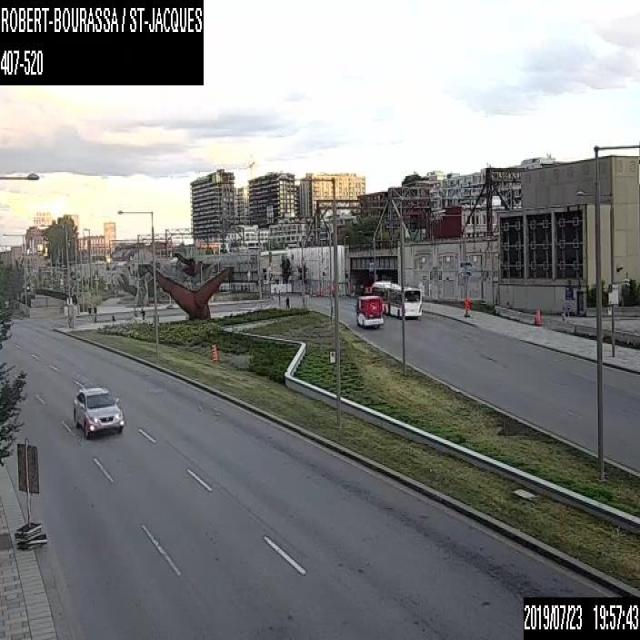bus: (370, 280, 421, 319)
construction: (208, 340, 218, 360), (463, 296, 471, 317), (536, 308, 540, 326)
pedestrian: (285, 295, 289, 309), (141, 308, 144, 320)
vehicle: (71, 384, 124, 437), (355, 294, 382, 327)
